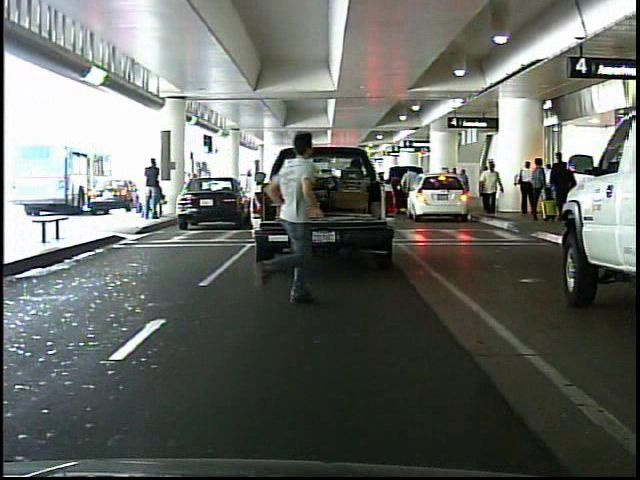person: (236, 122, 330, 320), (476, 157, 505, 226), (551, 151, 576, 224), (516, 156, 539, 220), (146, 158, 168, 220), (531, 158, 550, 225)
